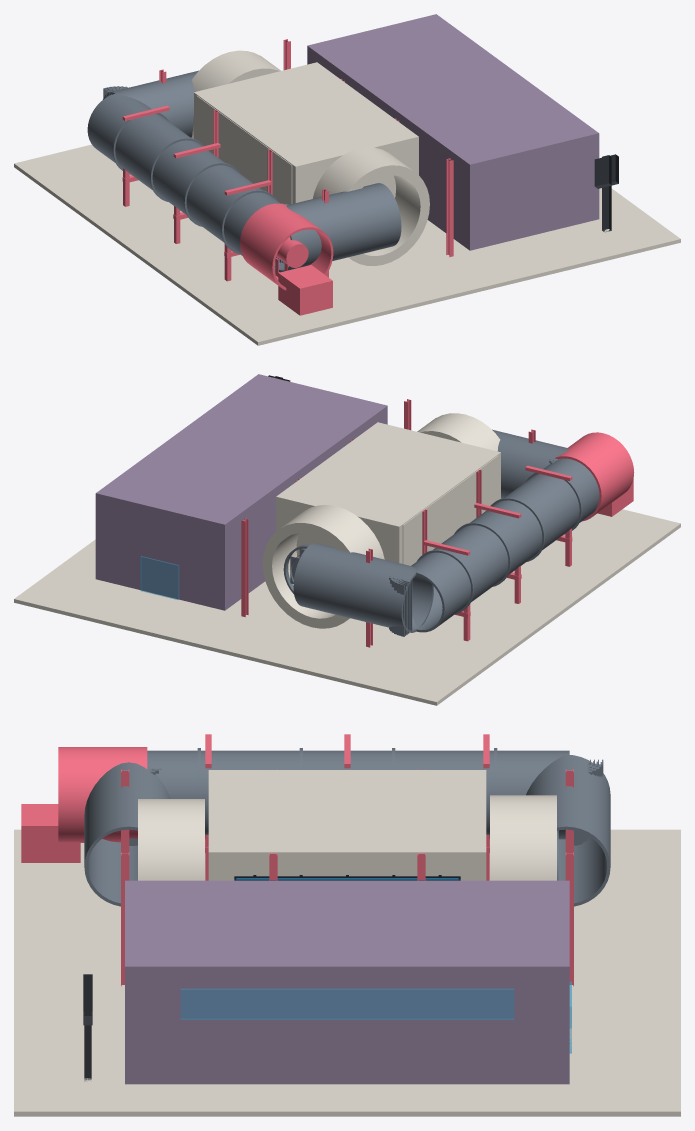
File: hq_03_aero_l1.glb
The picture shows the model from 3 angles, top to bottom: view 1: azimuth 30°, elevation 25°; view 2: azimuth 150°, elevation 25°; view 3: azimuth 270°, elevation 25°; orthographic projection. The views are drawn at different scales.
Parts seen in each view (by area): view 1: GEO_Aero_Control_Booth_Halls, GEO_Aero_Foundation_Plinth, GEO_Aero_Test_Chamber_Shell, GEO_Aero_Closed_Circuit_Duct, GEO_Aero_Axial_Fan_Nacelle, GEO_Aero_Structural_Support_Frames, GEO_Aero_Control_Consoles; view 2: GEO_Aero_Foundation_Plinth, GEO_Aero_Control_Booth_Halls, GEO_Aero_Test_Chamber_Shell, GEO_Aero_Closed_Circuit_Duct, GEO_Aero_Structural_Support_Frames, GEO_Aero_Axial_Fan_Nacelle, GEO_Aero_Booth_Windows; view 3: GEO_Aero_Control_Booth_Halls, GEO_Aero_Foundation_Plinth, GEO_Aero_Test_Chamber_Shell, GEO_Aero_Closed_Circuit_Duct, GEO_Aero_Booth_Windows, GEO_Aero_Axial_Fan_Nacelle, GEO_Aero_Structural_Support_Frames, GEO_Aero_Observation_Mullions, GEO_Aero_Control_Consoles.
Part boxes in pixels (x1=…): GEO_Aero_Control_Booth_Halls: x1=307, y1=14, x2=599, y2=250; GEO_Aero_Foundation_Plinth: x1=14, y1=144, x2=680, y2=345; GEO_Aero_Test_Chamber_Shell: x1=191, y1=50, x2=429, y2=266; GEO_Aero_Closed_Circuit_Duct: x1=87, y1=70, x2=401, y2=272; GEO_Aero_Axial_Fan_Nacelle: x1=240, y1=203, x2=333, y2=315; GEO_Aero_Structural_Support_Frames: x1=122, y1=39, x2=453, y2=281; GEO_Aero_Control_Consoles: x1=594, y1=154, x2=618, y2=232; GEO_Aero_Foundation_Plinth: x1=14, y1=509, x2=680, y2=705; GEO_Aero_Control_Booth_Halls: x1=95, y1=374, x2=387, y2=610; GEO_Aero_Test_Chamber_Shell: x1=262, y1=413, x2=501, y2=628; GEO_Aero_Closed_Circuit_Duct: x1=283, y1=429, x2=599, y2=636; GEO_Aero_Structural_Support_Frames: x1=241, y1=399, x2=572, y2=647; GEO_Aero_Axial_Fan_Nacelle: x1=555, y1=432, x2=634, y2=521; GEO_Aero_Booth_Windows: x1=140, y1=556, x2=178, y2=599; GEO_Aero_Control_Booth_Halls: x1=125, y1=880, x2=569, y2=1084; GEO_Aero_Foundation_Plinth: x1=14, y1=829, x2=680, y2=1116; GEO_Aero_Test_Chamber_Shell: x1=138, y1=770, x2=556, y2=880; GEO_Aero_Closed_Circuit_Duct: x1=84, y1=748, x2=610, y2=906; GEO_Aero_Booth_Windows: x1=180, y1=981, x2=571, y2=1053; GEO_Aero_Axial_Fan_Nacelle: x1=21, y1=747, x2=147, y2=862; GEO_Aero_Structural_Support_Frames: x1=121, y1=734, x2=573, y2=986; GEO_Aero_Observation_Mullions: x1=234, y1=875, x2=460, y2=880; GEO_Aero_Control_Consoles: x1=83, y1=974, x2=92, y2=1081.
Size of what is drawn, in the model's own units: 36 by 8.7 by 36.
